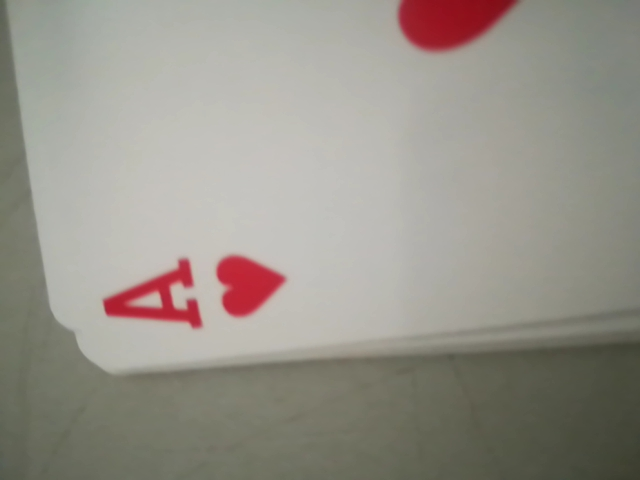hx a: (93, 212, 313, 361)
